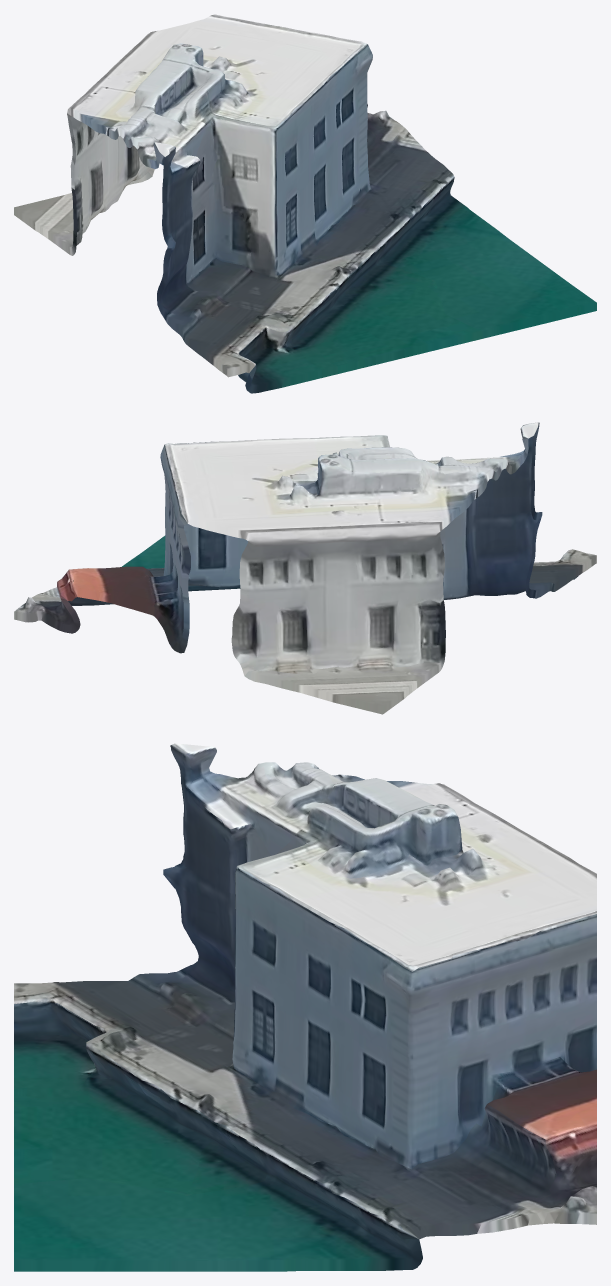
The model's file is z20-167782-405209-h0-yup-uvflip-v3-world.glb.
3 renders of one model, top to bottom at view 1: azimuth 30°, elevation 25°; view 2: azimuth 150°, elevation 25°; view 3: azimuth 270°, elevation 25°, orthographic. The views are drawn at different scales.
Size of the model in its own units: 30.16 by 16.68 by 30.32.
1 material, 1 textured.
